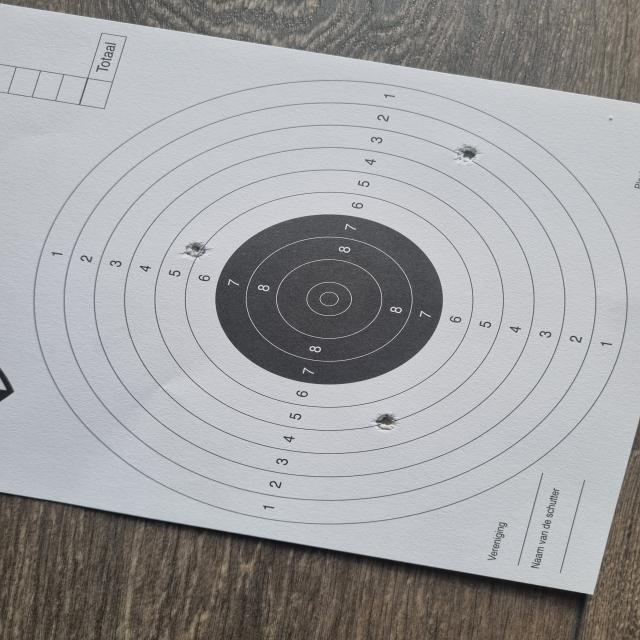3: (452, 145, 482, 165)
5: (372, 412, 400, 432)
6: (183, 241, 208, 258)
Target: (34, 79, 628, 526)
black_contour: (214, 213, 444, 384)
